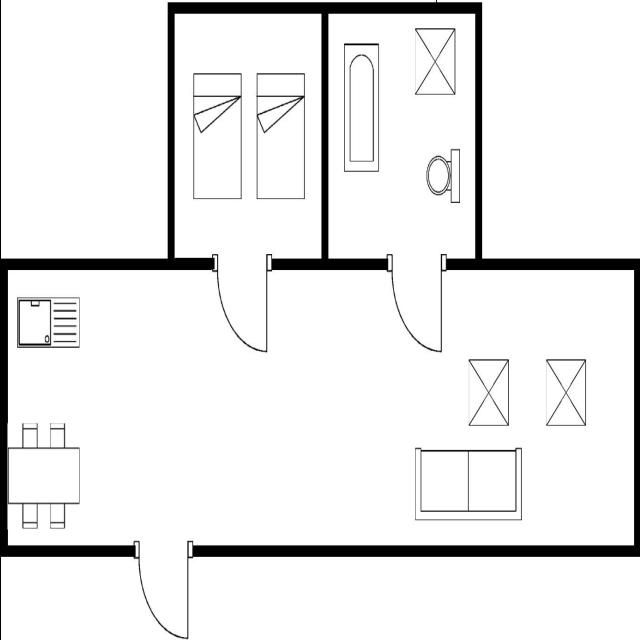bed: (252, 66, 309, 206), (190, 65, 244, 206)
coffee_table: (542, 353, 590, 430), (466, 352, 512, 430), (412, 24, 457, 99)
dining_table: (3, 418, 85, 532)
large_sink: (424, 141, 464, 209)
large_sofa: (412, 443, 524, 526)
sink: (14, 291, 82, 351)
tub: (342, 37, 381, 179)
